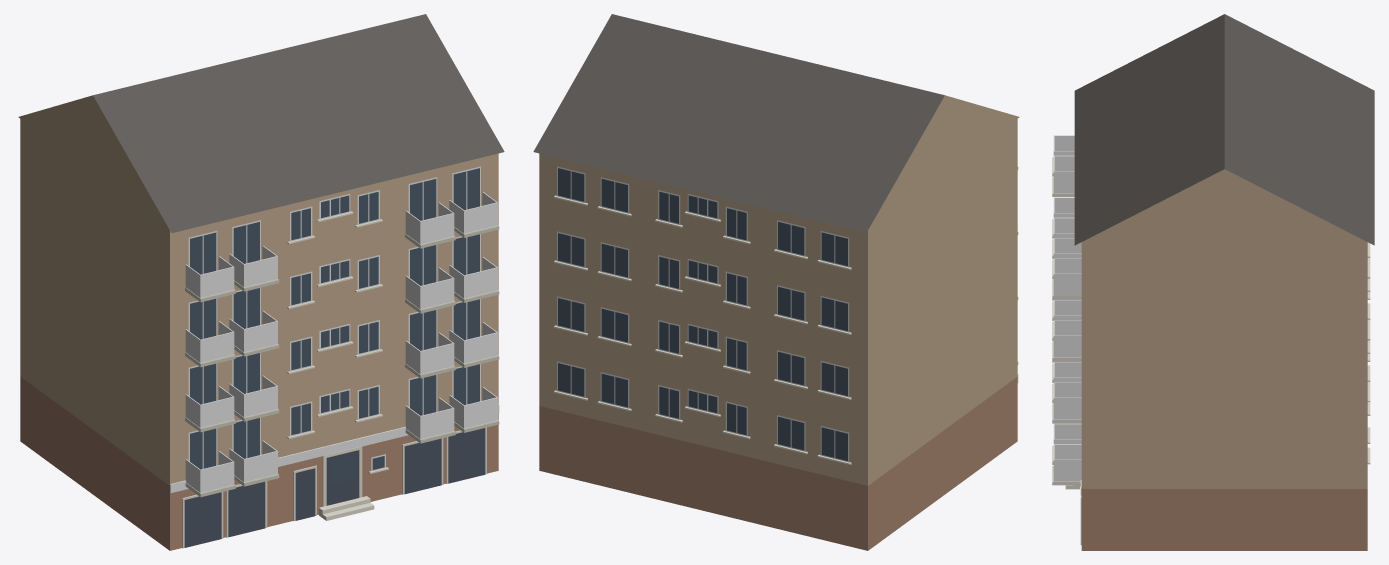
Rendered from nw-garage-pair-balcony-5st__buff-white__5__gable__long__solid.glb.
3 views of the same model, side by side, from view 1: azimuth 30°, elevation 25°; view 2: azimuth 150°, elevation 25°; view 3: azimuth 270°, elevation 25° (orthographic). The views are drawn at different scales.
Parts seen in each view (by area): view 1: nw-garage-pair-balcony-5st__buff-white__5__gable__long__soli; view 2: nw-garage-pair-balcony-5st__buff-white__5__gable__long__soli; view 3: nw-garage-pair-balcony-5st__buff-white__5__gable__long__soli.
Boxes of the visible parts, bbox=[...] form: nw-garage-pair-balcony-5st__buff-white__5__gable__long__soli: bbox=[18, 14, 504, 550]; nw-garage-pair-balcony-5st__buff-white__5__gable__long__soli: bbox=[533, 14, 1019, 550]; nw-garage-pair-balcony-5st__buff-white__5__gable__long__soli: bbox=[1052, 14, 1374, 550].
Bounding box in the file's own units: 15.26 × 17.57 × 13.41.
